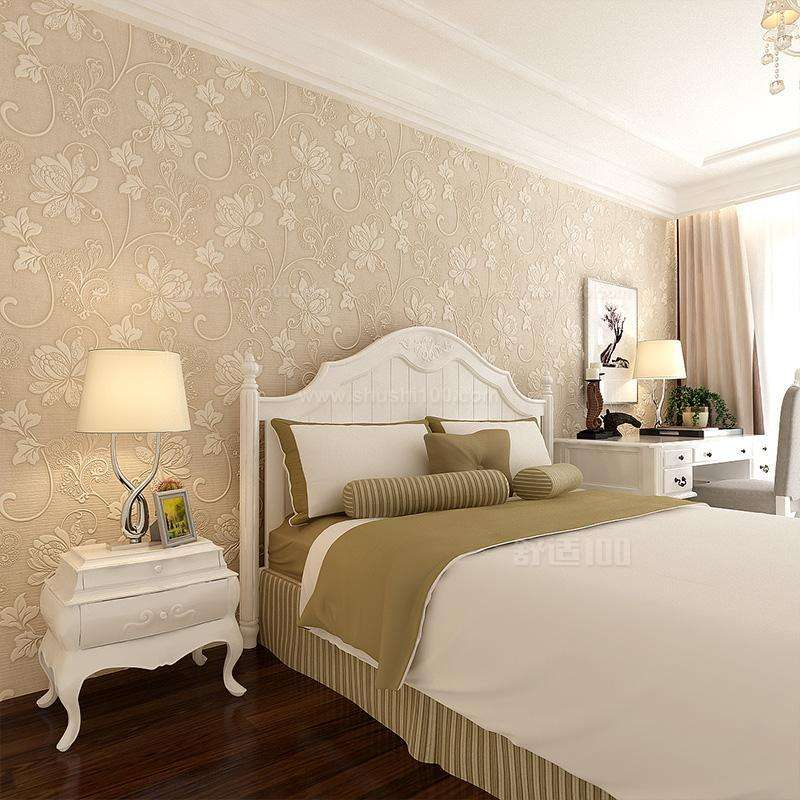床: (266, 475, 800, 779)
枕头: (284, 416, 567, 518)
灯: (70, 345, 187, 552), (633, 336, 693, 429), (753, 5, 799, 100)
